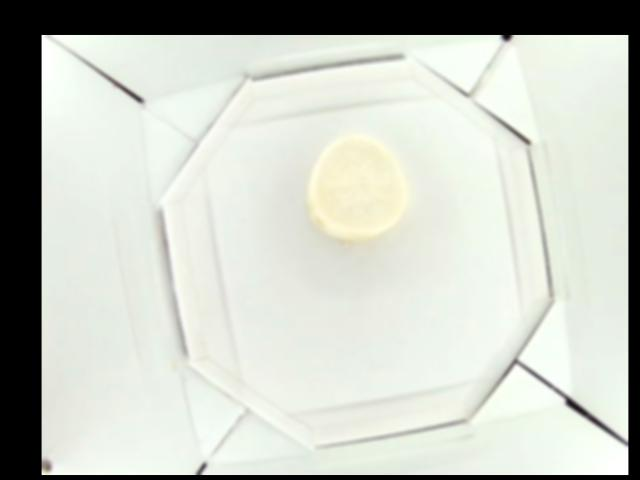Mooli: (308, 136, 410, 234)
